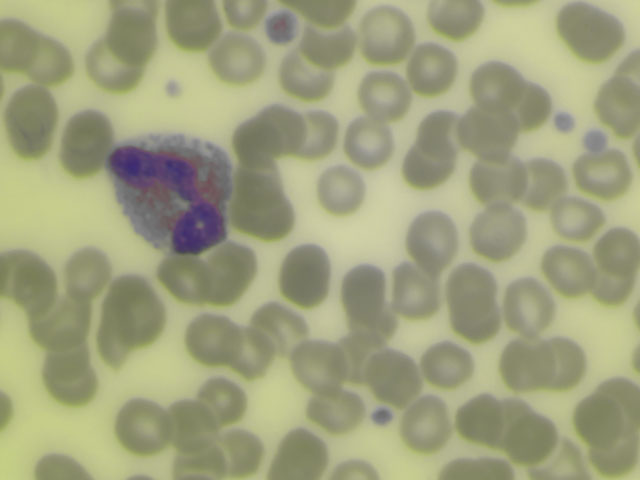Platelets: (263, 8, 300, 47), (161, 74, 187, 102), (553, 105, 576, 136), (370, 407, 394, 432), (586, 126, 608, 153)
RBC: (592, 79, 640, 132), (564, 3, 617, 51), (237, 193, 291, 238), (167, 1, 221, 45), (317, 167, 365, 213), (340, 262, 388, 308), (313, 387, 361, 433), (296, 342, 344, 388), (275, 432, 323, 478), (284, 250, 332, 296), (258, 304, 306, 350), (225, 330, 273, 376), (217, 429, 265, 475), (197, 377, 245, 423), (164, 401, 212, 447), (117, 402, 165, 448), (189, 313, 237, 359), (205, 252, 253, 298), (153, 253, 201, 299), (116, 301, 164, 347), (103, 274, 151, 320), (37, 337, 85, 383), (36, 298, 84, 344), (64, 247, 112, 293), (11, 263, 59, 309), (65, 108, 113, 154), (88, 40, 136, 86), (108, 15, 156, 61), (7, 113, 55, 159), (10, 86, 58, 132), (27, 36, 75, 82), (361, 9, 409, 55), (283, 48, 331, 94), (306, 20, 354, 66), (213, 37, 261, 83), (573, 395, 621, 441), (538, 341, 586, 387), (508, 416, 556, 462), (486, 397, 534, 443), (454, 396, 502, 442), (504, 282, 552, 328), (425, 342, 473, 388), (452, 295, 500, 341), (447, 263, 495, 309), (409, 213, 457, 259), (399, 403, 447, 449), (372, 353, 420, 399), (340, 339, 388, 385), (348, 298, 396, 344), (348, 118, 396, 164), (588, 266, 636, 312), (592, 228, 640, 274), (544, 245, 592, 291), (553, 190, 601, 236), (580, 153, 628, 199), (523, 161, 571, 207), (474, 208, 522, 254), (478, 154, 526, 200), (401, 145, 449, 191), (418, 108, 466, 154), (509, 79, 557, 125), (464, 109, 512, 155), (475, 62, 523, 108), (362, 70, 410, 116), (407, 45, 455, 91), (234, 118, 282, 164), (232, 157, 280, 203), (298, 110, 346, 156), (255, 105, 303, 151), (1, 248, 48, 294), (172, 434, 220, 479), (592, 434, 640, 479), (390, 264, 434, 309), (501, 345, 549, 386), (52, 364, 94, 408), (31, 447, 87, 479), (605, 373, 640, 424), (536, 444, 584, 480), (1, 18, 34, 65), (443, 457, 512, 479), (430, 1, 483, 29), (333, 453, 381, 479), (303, 1, 355, 23)
WBC: (111, 129, 231, 253)
